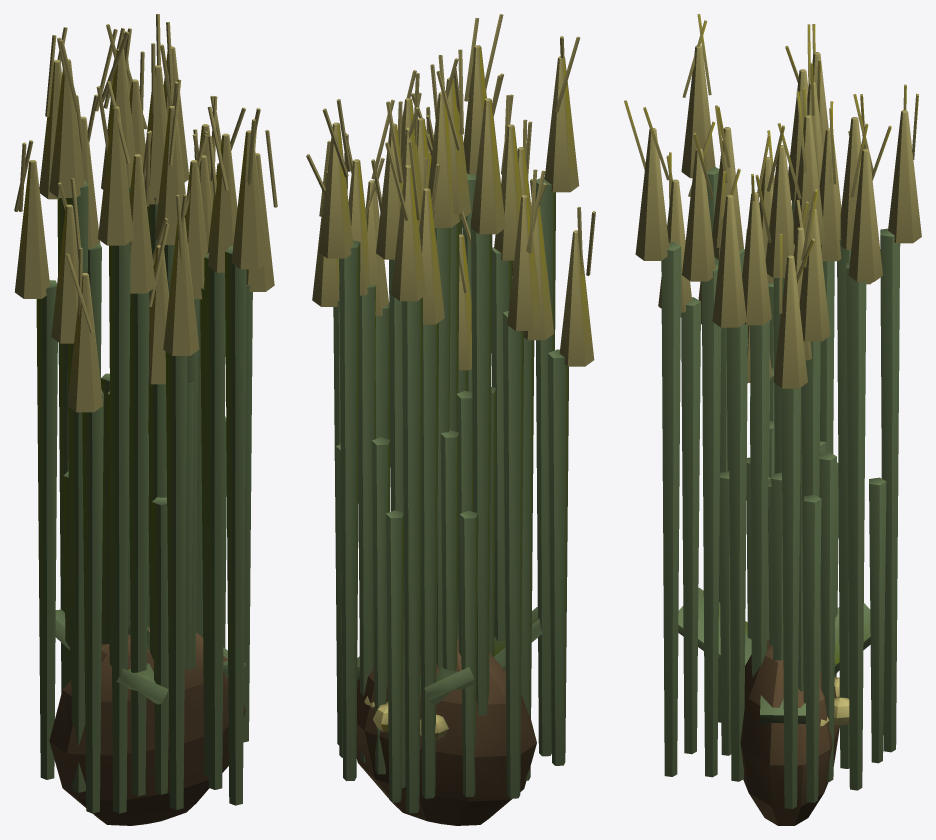
File: crop_lingsui_wheat.glb
3 views of the same model, side by side, from view 1: azimuth 30°, elevation 25°; view 2: azimuth 150°, elevation 25°; view 3: azimuth 270°, elevation 25° (orthographic). The views are drawn at different scales.
Visible parts, largest first — view 1: seed_mound, stem.014, stem.018, stem.019, stem.015, stem.011, stem.016, stem.013, stem.012, stem2.011, ear.011, ear.014 (+32 smaller); view 2: seed_mound, stem.003, stem.007, stem.011, stem.010, stem.006, stem.013, stem.014, stem.001, stem2.004, stem.015, stem2.001 (+33 smaller); view 3: stem.018, stem.003, seed_mound, stem.007, stem.019, stem.016, stem.020, stem.023, stem.021, stem.004, stem2, stem2.004 (+33 smaller).
Boxes of the visible parts, x1,y1,x2,y2 form: seed_mound: (49, 628, 245, 825); stem.014: (109, 242, 130, 813); stem.018: (225, 246, 246, 805); stem.019: (204, 253, 225, 789); stem.015: (129, 292, 149, 796); stem.011: (36, 280, 57, 779); stem.016: (165, 351, 187, 809); stem.013: (82, 390, 103, 813); stem.012: (68, 343, 85, 792); stem2.011: (152, 497, 168, 794); ear.011: (15, 160, 50, 298); ear.014: (98, 106, 133, 245); seed_mound: (356, 639, 536, 825); stem.003: (339, 240, 360, 781); stem.007: (402, 297, 422, 813); stem.011: (502, 310, 523, 798); stem.010: (471, 217, 492, 715); stem.006: (420, 322, 439, 798); stem.013: (548, 349, 568, 765); stem.014: (535, 177, 555, 756); stem.001: (358, 285, 376, 762); stem2.004: (386, 510, 403, 802); stem.015: (491, 247, 512, 670); stem2.001: (372, 437, 390, 774); stem.018: (661, 242, 681, 776); stem.003: (846, 262, 866, 790); seed_mound: (740, 640, 839, 825); stem.007: (880, 228, 900, 752); stem.019: (701, 263, 721, 777); stem.016: (681, 297, 700, 754); stem.020: (728, 323, 747, 781); stem.023: (781, 387, 800, 808); stem.021: (750, 320, 769, 677); stem.004: (837, 239, 851, 768); stem2: (804, 495, 821, 802); stem2.004: (869, 477, 886, 763).
Bounding box in the file's own units: 0.3927 × 1.22 × 0.4302.
